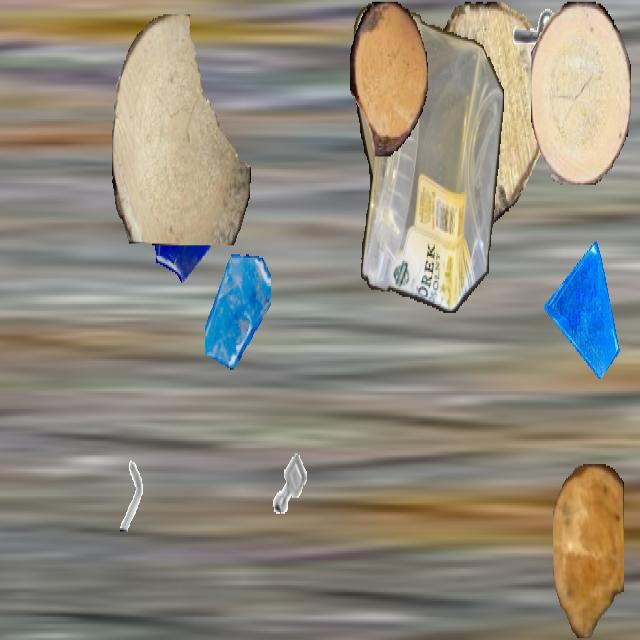glass: (144, 138, 226, 284), (544, 242, 620, 377), (205, 252, 271, 370)
metal: (498, 2, 560, 112), (265, 439, 315, 528), (110, 457, 152, 531)
plastic: (354, 2, 504, 311)
wood: (112, 14, 250, 246), (408, 2, 548, 226), (531, 2, 631, 183), (553, 464, 623, 638), (350, 1, 428, 154)
